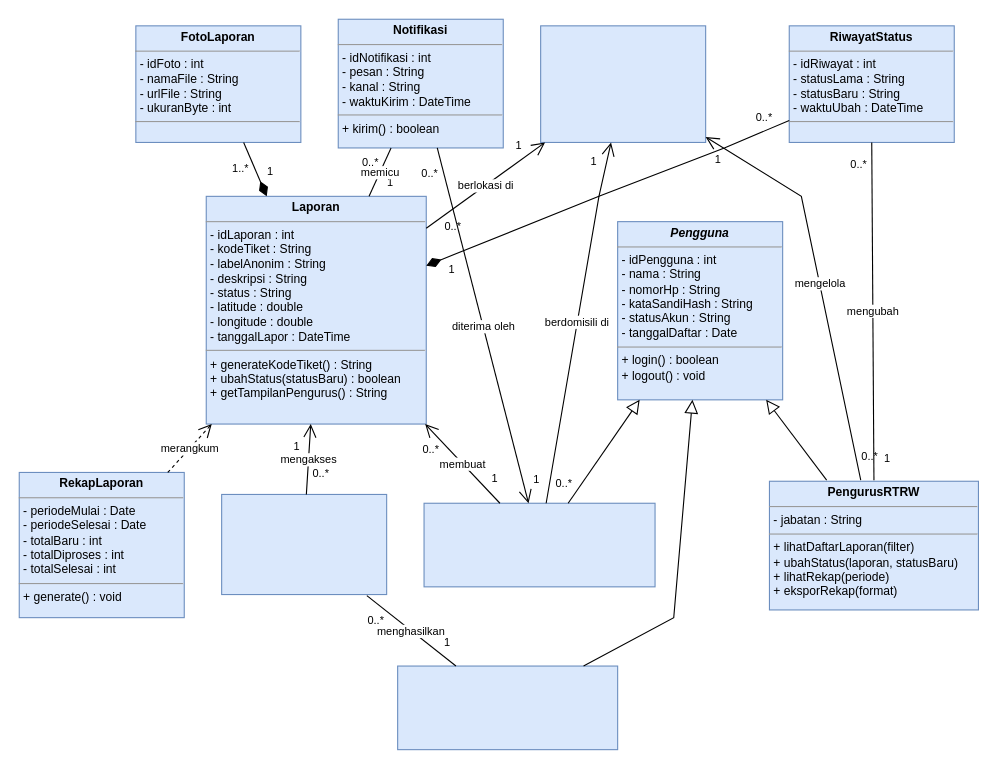
Image size: 998x769. Some labels were removed from this diagram. Each missing label, with the centre of its shape:
AdminSistem + lihatDataPelapor(laporan, alasan) + kelolaAkunPengurus(): the point at 507,707
Area - idArea : int - rt : String - rw : String - kelurahan : String: the point at 623,83
AuditLog - idLog : int - alasan : String - waktuAkses : DateTime: the point at 304,544
Warga + buatLaporan(deskripsi, foto, lokasi) + lacakLaporan(kodeTiket): the point at 539,544
